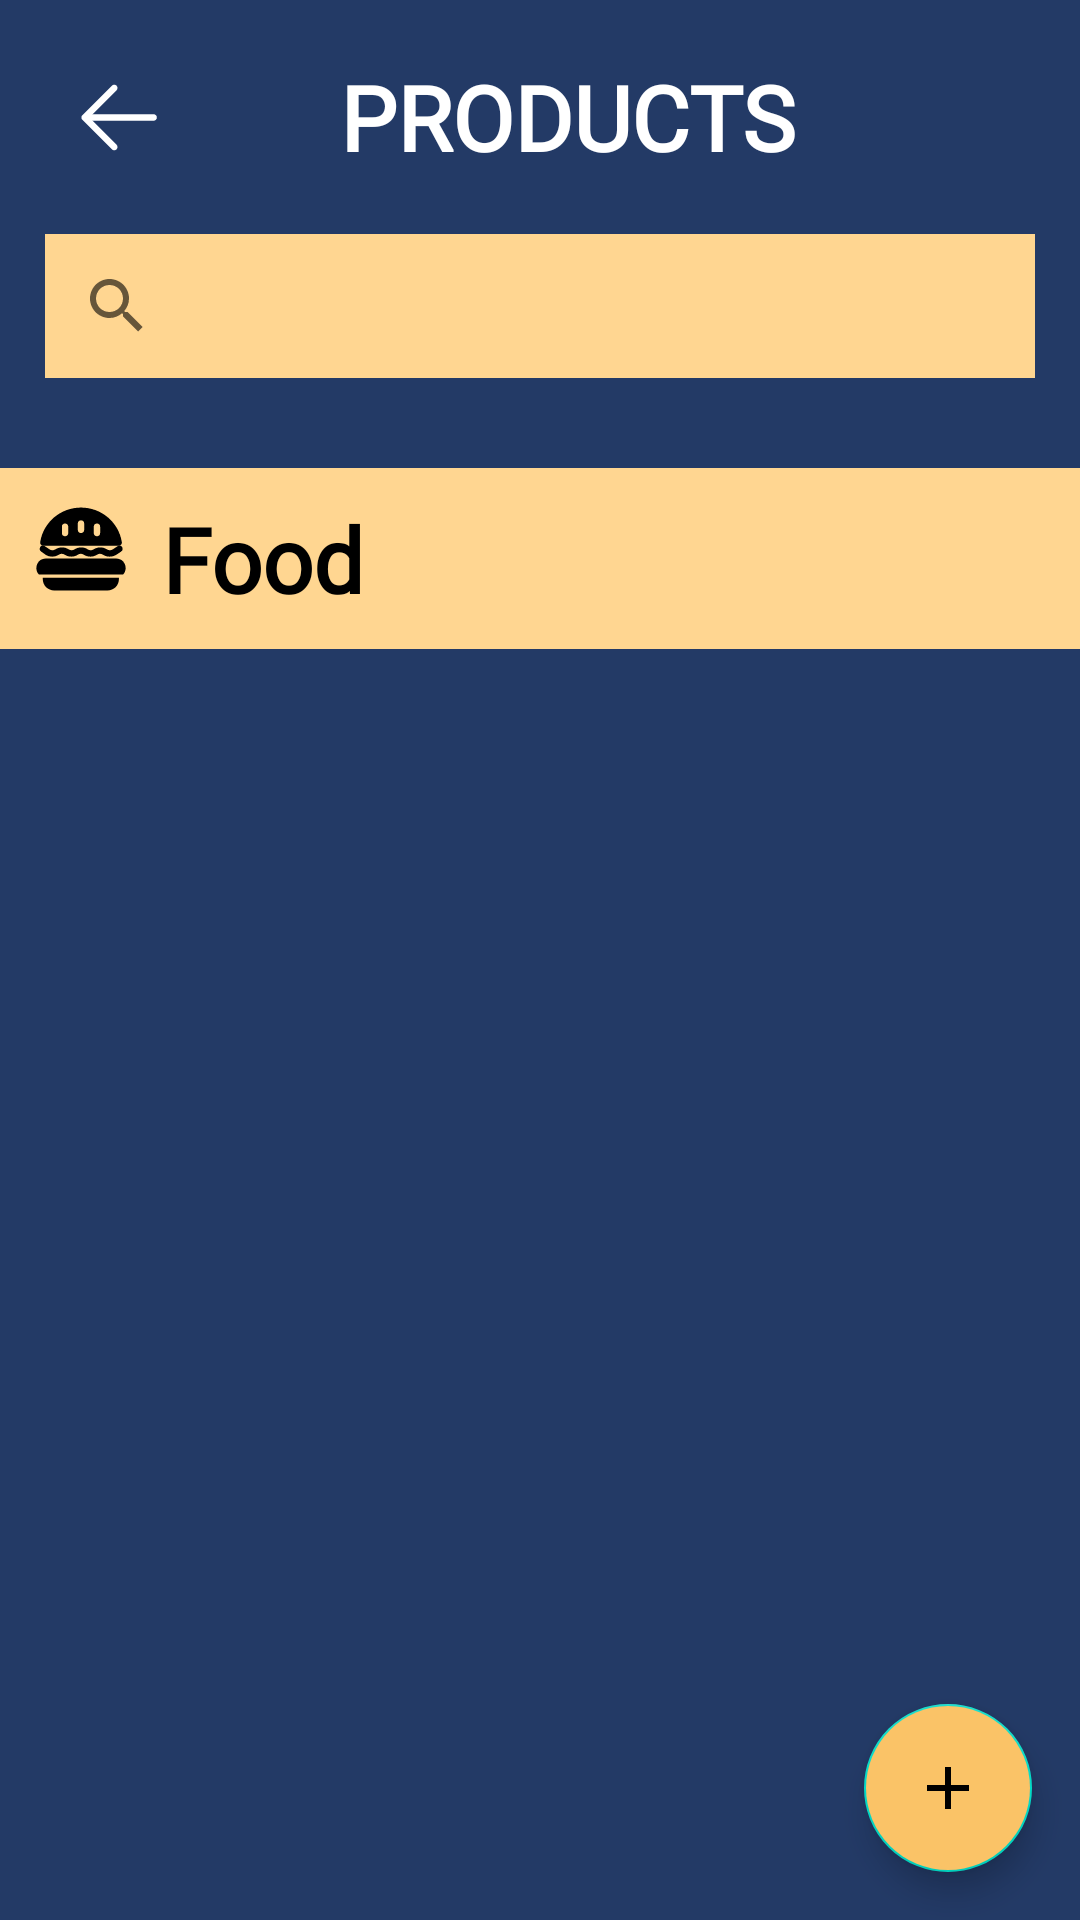

Icon click points for this 1080px x 1920px phone screenshot, format point (x, y):
Add New Product: point (948, 1788)
Back to Category: point (119, 117)
